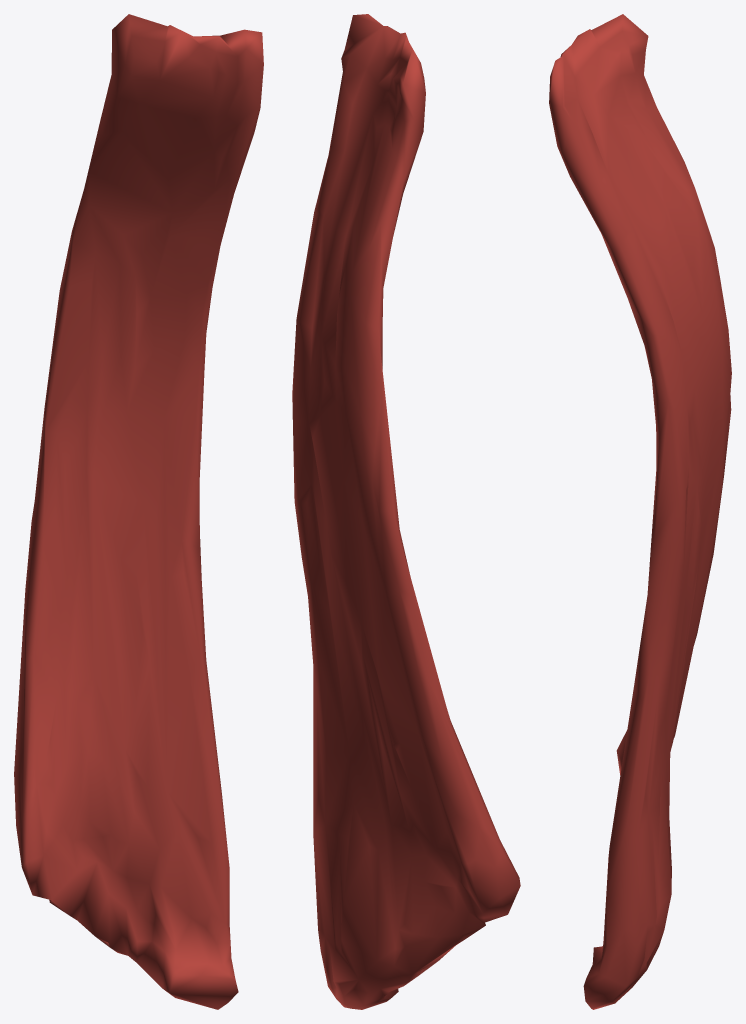
Rendered from musculos-sternohyoid-muscle-r.glb.
3 views of the same model, side by side, from view 1: azimuth 30°, elevation 25°; view 2: azimuth 150°, elevation 25°; view 3: azimuth 270°, elevation 25° (orthographic). The views are drawn at different scales.
Parts seen in each view (by area): view 1: Sternohyoid muscle.r; view 2: Sternohyoid muscle.r; view 3: Sternohyoid muscle.r.
Boxes of the visible parts, left/top/right/bottom form: Sternohyoid muscle.r: left=14, top=14, right=263, bottom=1009; Sternohyoid muscle.r: left=292, top=14, right=520, bottom=1009; Sternohyoid muscle.r: left=549, top=14, right=731, bottom=1009.
Bounding box in the file's own units: 0.0238 × 0.1081 × 0.0186.
